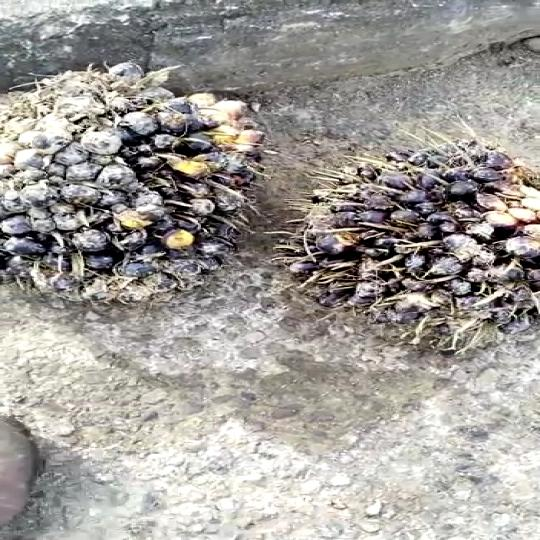mentah: (0, 51, 265, 315), (283, 132, 540, 351)
